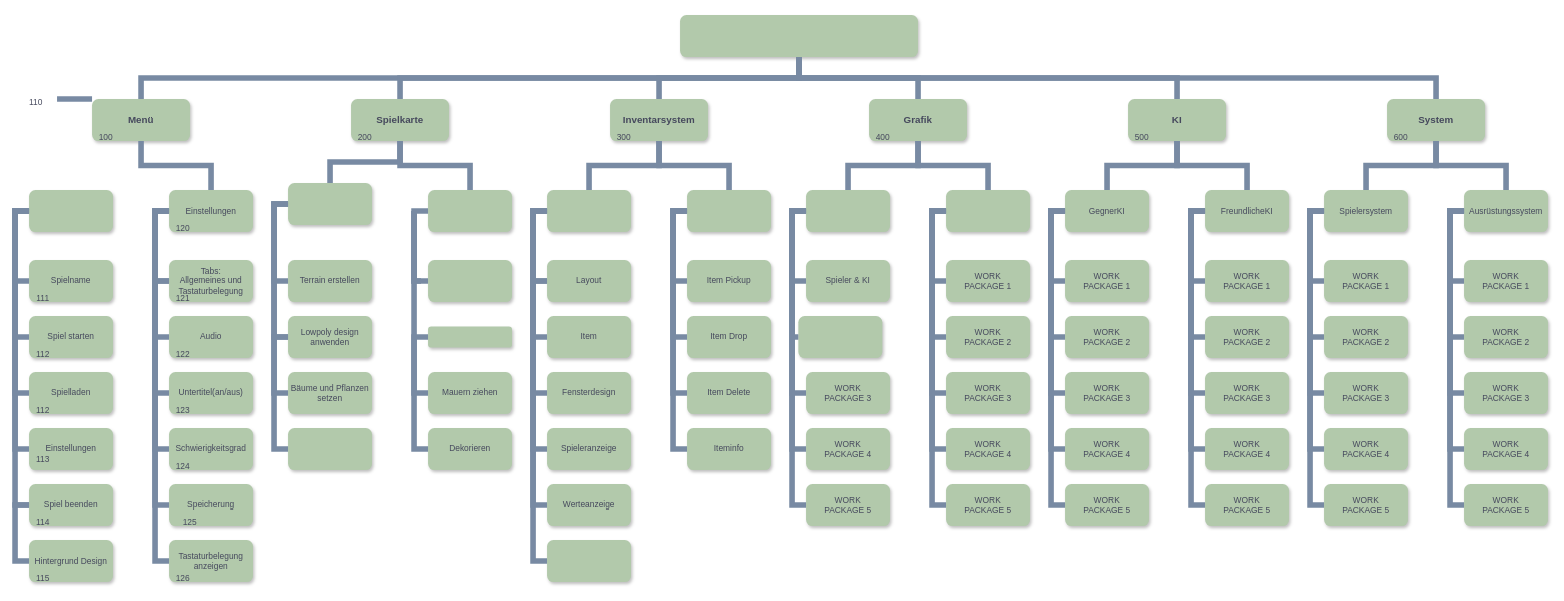
Some shapes in this 1564 by 601 pixel diagram are drawn without their labels. Each missing label, with the centre of its shape:
"Animation" belongs at point (848, 212).
"Design" belongs at point (589, 212).
"Dörfer" belongs at point (470, 212).
"Farbe" belongs at point (589, 562).
"Funktionen" belongs at point (729, 212).
"Häuser setzen" belongs at point (470, 337).
"Projekt:Nimpola" belongs at point (799, 37).
"Scenes" belongs at point (988, 212).
"Startmenü" belongs at point (71, 212).
"Terrain designen" belongs at point (330, 450).
"Terrain/Design" belongs at point (330, 205).
"Weglayout" belongs at point (470, 282).
